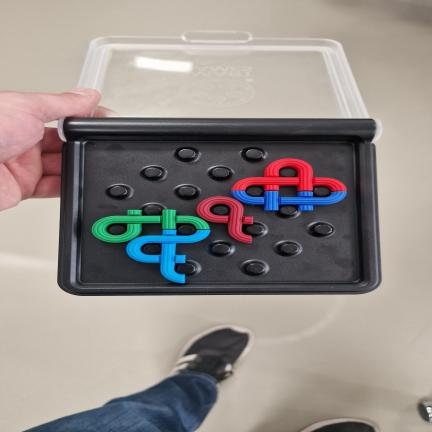B_SkyBlue: (127, 230, 210, 283)
C_DarkBlue: (232, 191, 346, 211)
D_Green: (92, 210, 209, 242)
E_Red: (232, 159, 346, 191)
J_DarkRed: (197, 197, 253, 243)
board: (58, 118, 381, 295)
hinge: (32, 118, 395, 140)
pin: (177, 263, 195, 275), (144, 167, 162, 178), (108, 224, 126, 235), (314, 224, 332, 235), (212, 243, 230, 254), (142, 244, 160, 255), (247, 263, 265, 274), (247, 224, 264, 235), (281, 243, 298, 254), (245, 149, 263, 159), (109, 186, 127, 196), (279, 206, 297, 216), (143, 205, 161, 215), (178, 149, 195, 159), (212, 168, 229, 178), (178, 225, 195, 235), (178, 187, 196, 196), (279, 168, 296, 177), (246, 187, 263, 196), (212, 206, 229, 215), (314, 187, 330, 196)
